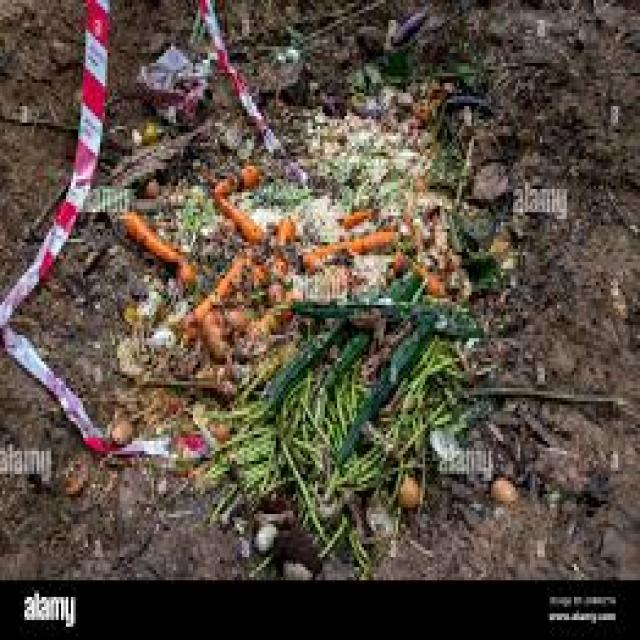Organic: (109, 205, 519, 550), (220, 87, 475, 207)
